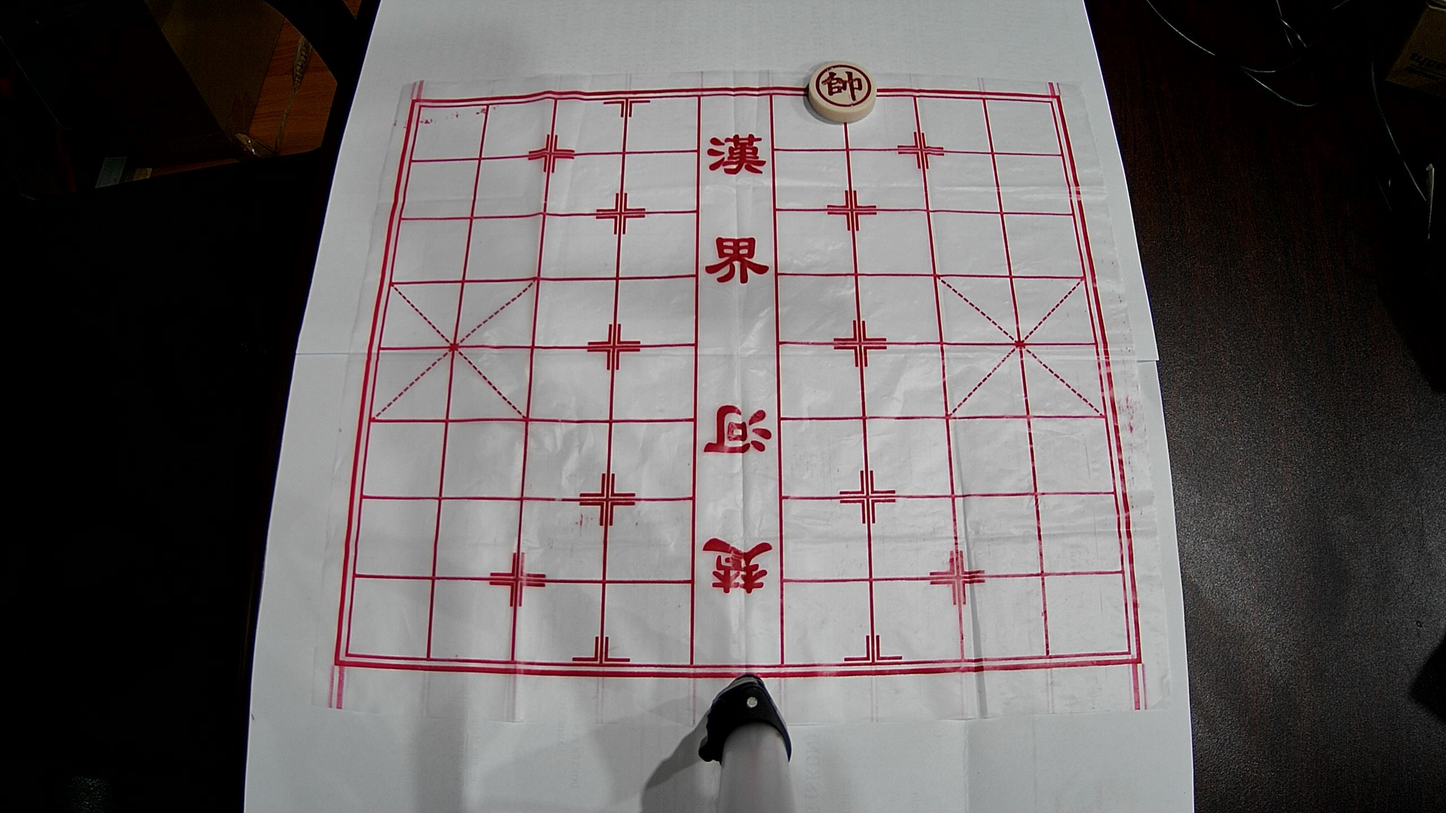Red-General: (809, 61, 876, 123)
